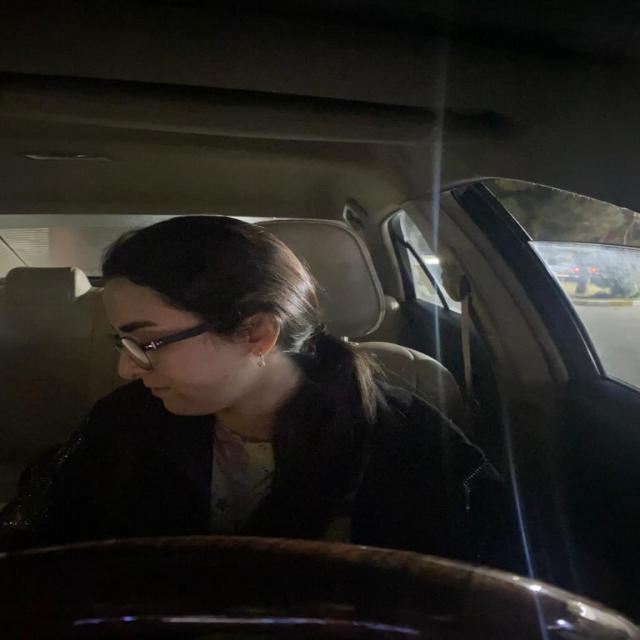person: (90, 211, 329, 425)
